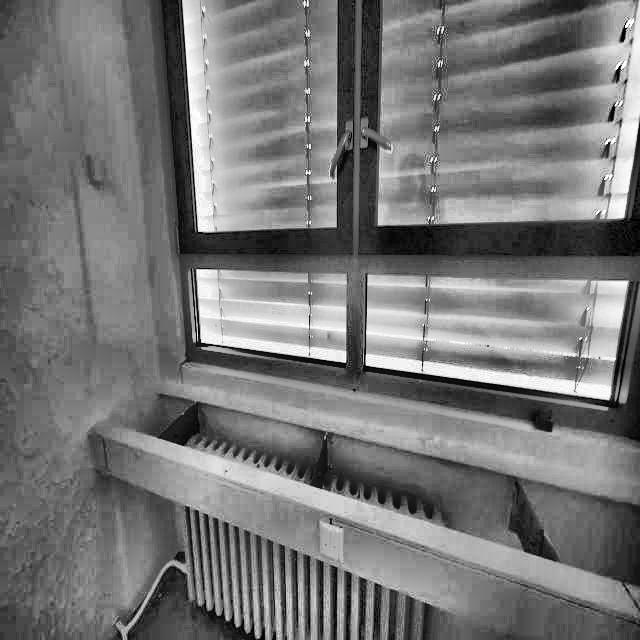ff: (181, 129, 427, 266)
